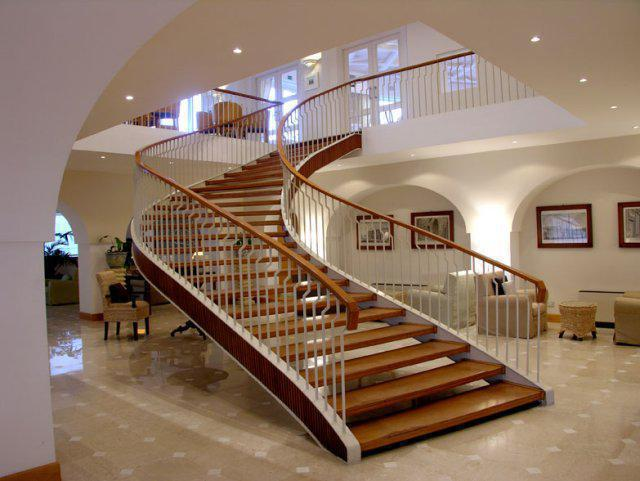Cama: (125, 112, 557, 458)
